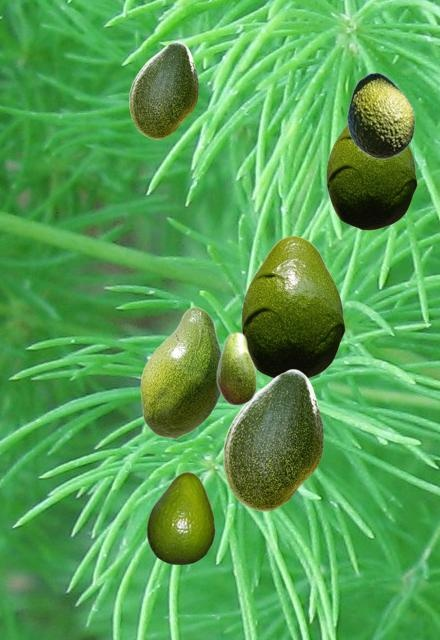avocado: (241, 235, 344, 378), (223, 369, 322, 510), (140, 306, 221, 438), (326, 124, 416, 229), (129, 41, 197, 138), (146, 471, 214, 563), (346, 72, 414, 158), (216, 331, 256, 405)
